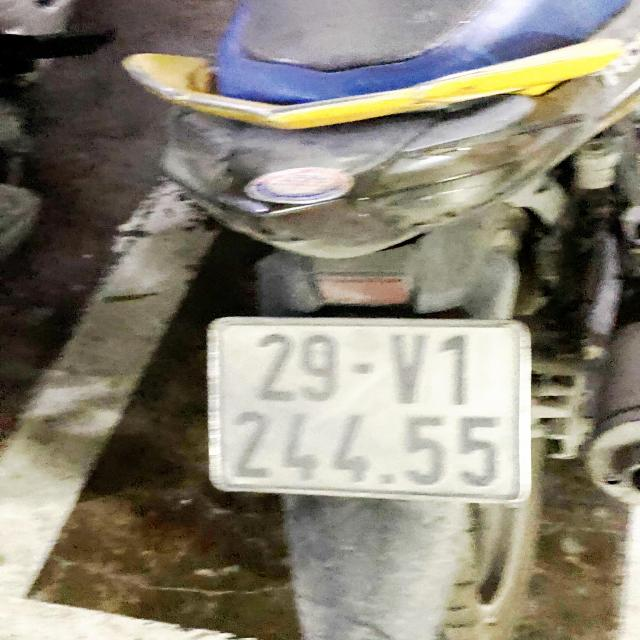license_plate: (199, 317, 536, 509)
